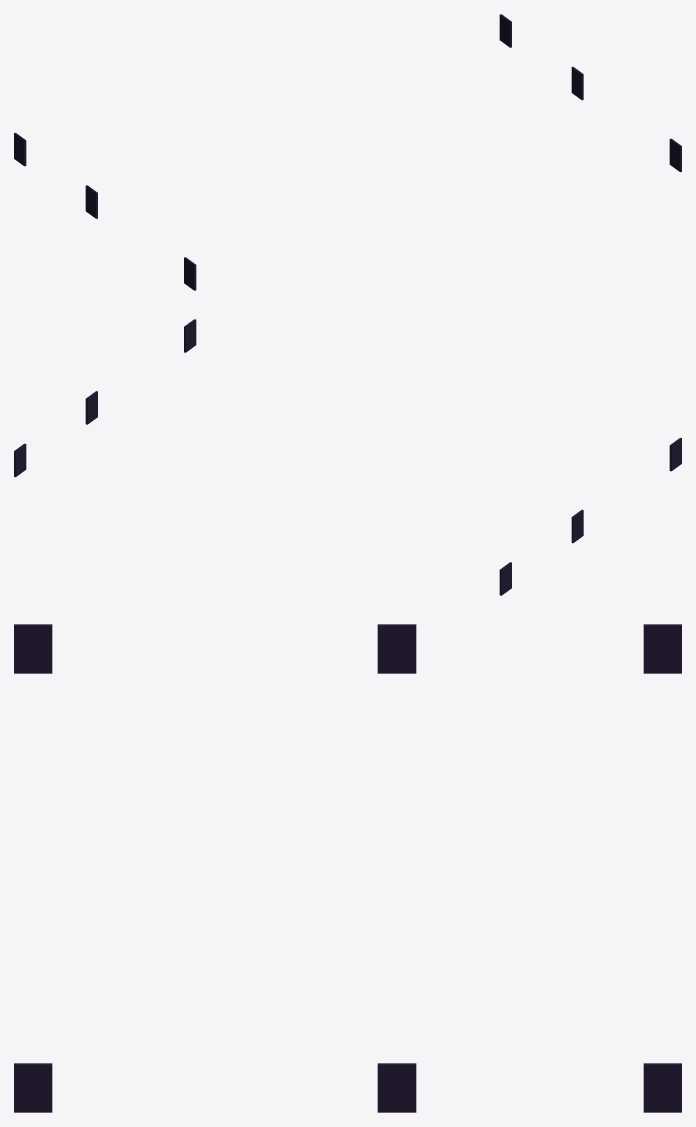
The model's file is Posters_Poster.fbx.
3 views of the same model, one above another, from view 1: azimuth 30°, elevation 25°; view 2: azimuth 150°, elevation 25°; view 3: azimuth 270°, elevation 25° (orthographic). The views are drawn at different scales.
Parts seen in each view (by area): view 1: Poster-1_60.001; view 2: Poster-1_60.001; view 3: Poster-1_60.001.
Part boxes in pixels (x1,y1,x2,y2): Poster-1_60.001: [14, 14, 681, 290]; Poster-1_60.001: [14, 319, 681, 595]; Poster-1_60.001: [14, 624, 681, 1112].
Size of the model in its own units: 14905 by 750 by 9550.
